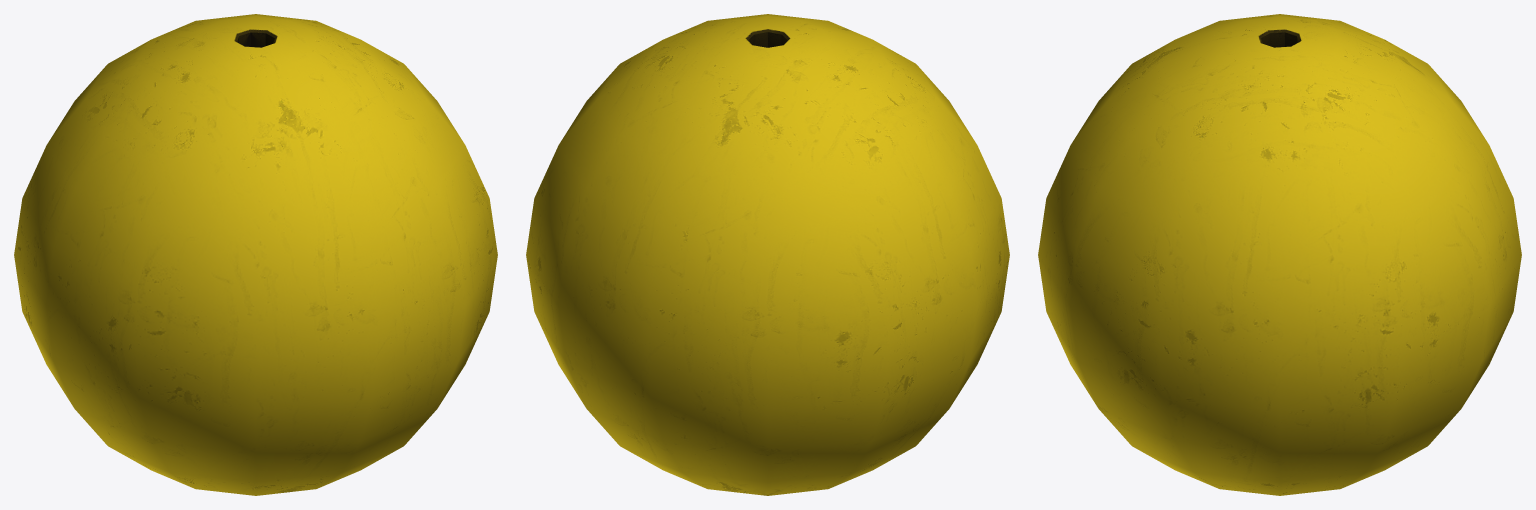
File: mb_round_buoy.dae
The picture shows the model from 3 angles, left to right: view 1: azimuth 30°, elevation 25°; view 2: azimuth 150°, elevation 25°; view 3: azimuth 270°, elevation 25°; orthographic projection.
Visible parts, largest first — view 1: BuoyModelFBXASC058BuoyModelFBXASC058pSphere3; view 2: BuoyModelFBXASC058BuoyModelFBXASC058pSphere3; view 3: BuoyModelFBXASC058BuoyModelFBXASC058pSphere3.
Boxes of the visible parts, x1,y1,x2,y2 form: BuoyModelFBXASC058BuoyModelFBXASC058pSphere3: [14, 14, 497, 495]; BuoyModelFBXASC058BuoyModelFBXASC058pSphere3: [526, 14, 1009, 495]; BuoyModelFBXASC058BuoyModelFBXASC058pSphere3: [1038, 14, 1521, 495].
Size of the model in its own units: 1.67 by 1.66 by 1.67.
